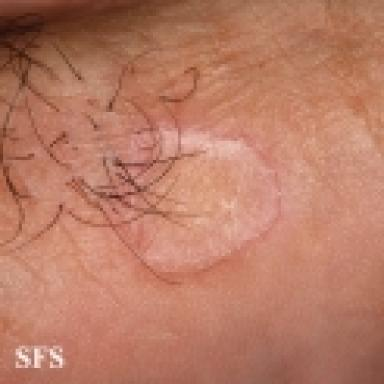Porokeratosis: (131, 127, 279, 276)
